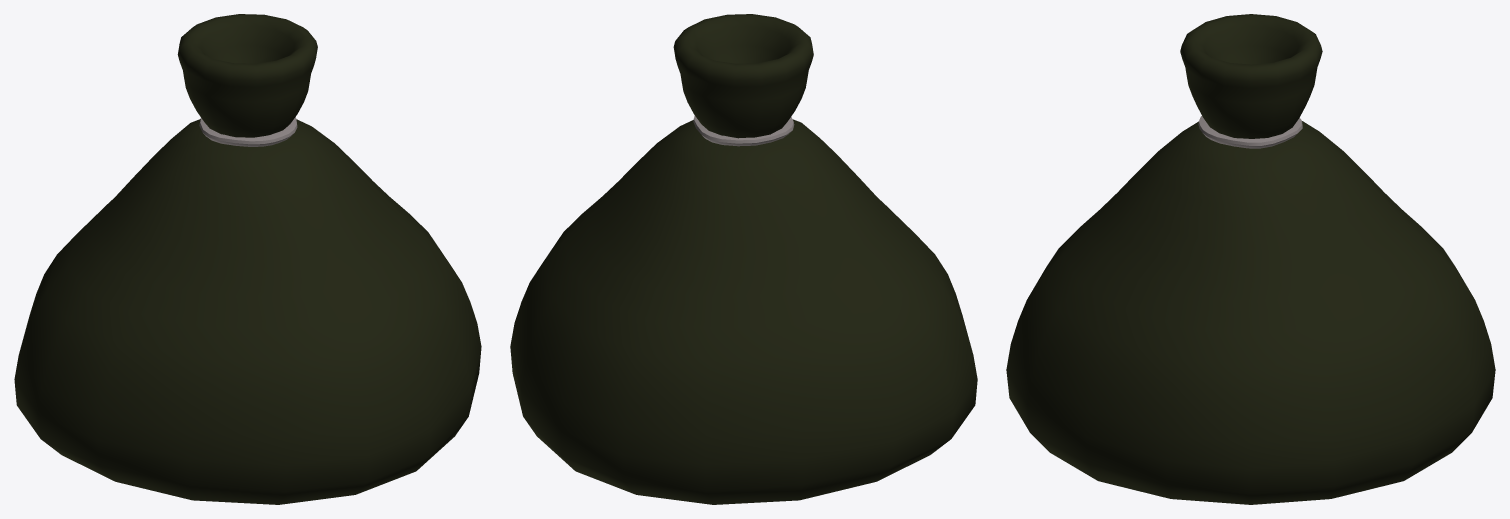
The model's file is BolsaN_05.fbx.
The picture shows the model from 3 angles, left to right: view 1: azimuth 30°, elevation 25°; view 2: azimuth 150°, elevation 25°; view 3: azimuth 270°, elevation 25°; orthographic projection.
Visible parts, largest first — view 1: BolsaN_05; view 2: BolsaN_05; view 3: BolsaN_05.
Part boxes in pixels (bbox=[...]): BolsaN_05: bbox=[14, 14, 481, 504]; BolsaN_05: bbox=[510, 14, 977, 504]; BolsaN_05: bbox=[1006, 14, 1495, 504].
Size of the model in its own units: 72.04 by 62.93 by 72.04.
